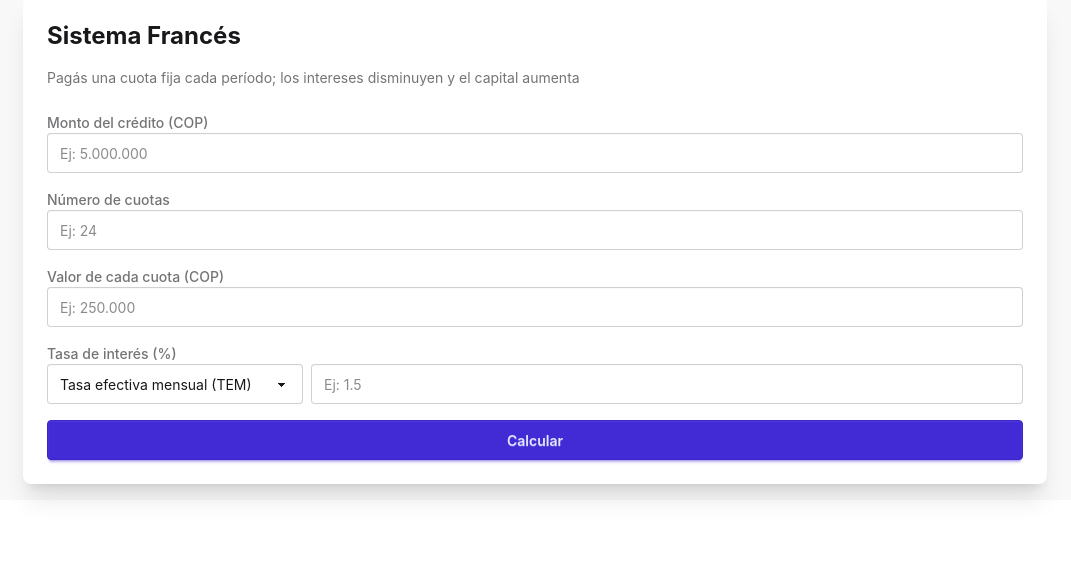
Test: CreditCalculator › validation › shows a Zod error for fractional installments
Type "1200000" into the field with placeholder "Ej: 5.000.000".
click(535, 153); type("1200000")  # box left=47, top=133, right=1023, bottom=173
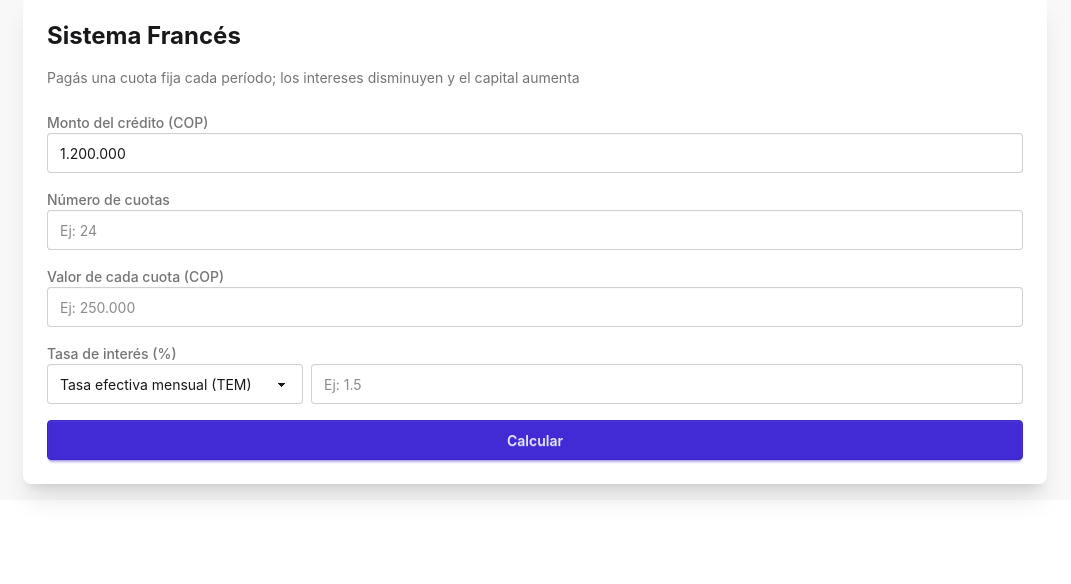
Type "1.5" into the number field with placeholder "Ej: 24".
click(535, 230); type("1.5")  # box left=47, top=210, right=1023, bottom=250
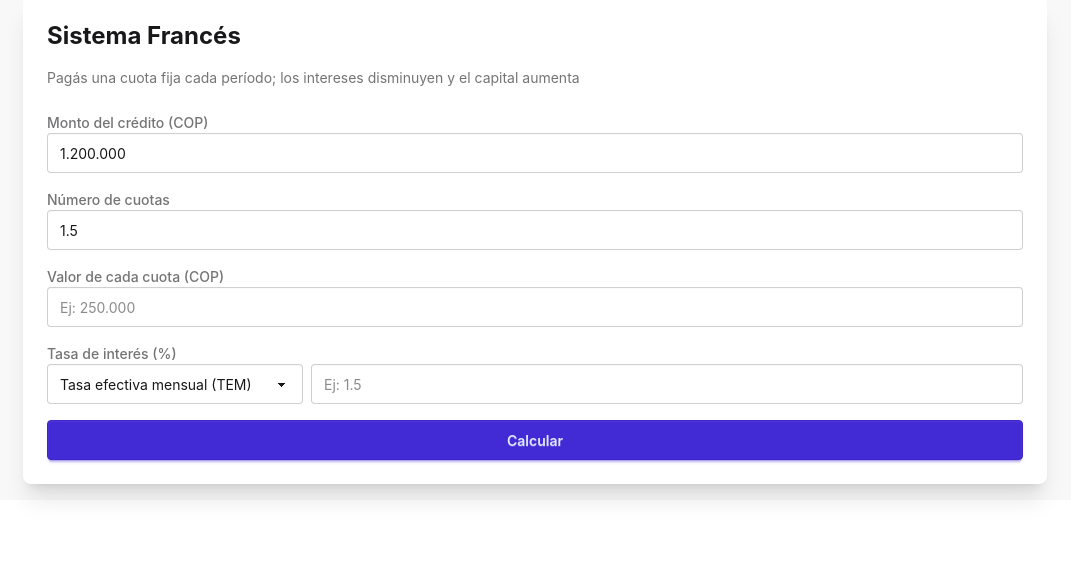
Type "0" into the number field with test id "rate-input".
click(667, 384); type("0")  # box left=311, top=364, right=1023, bottom=404
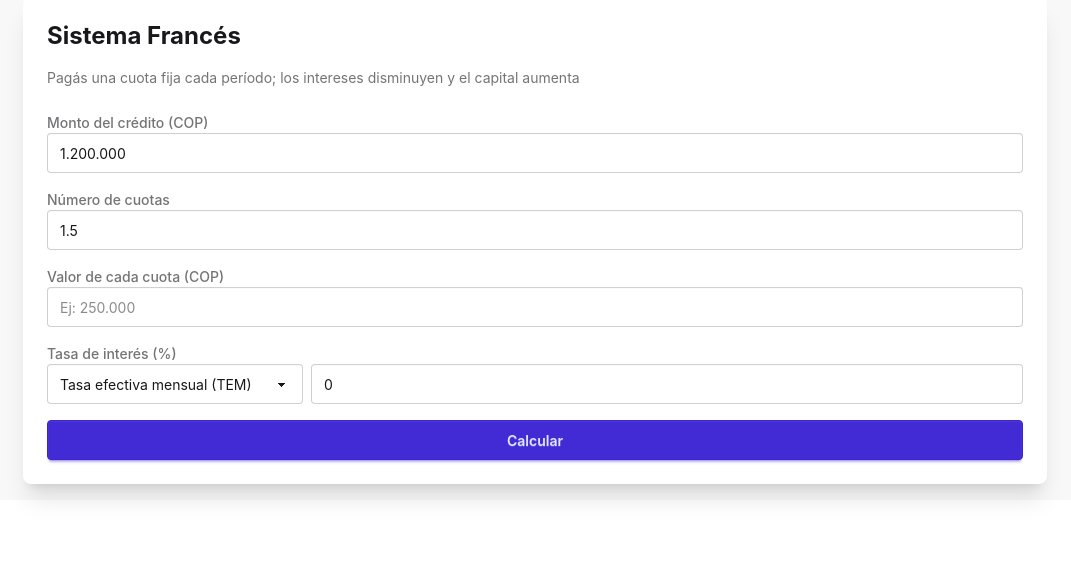
Click the button with test id "calculate-btn".
click(535, 440)  # box left=47, top=420, right=1023, bottom=460
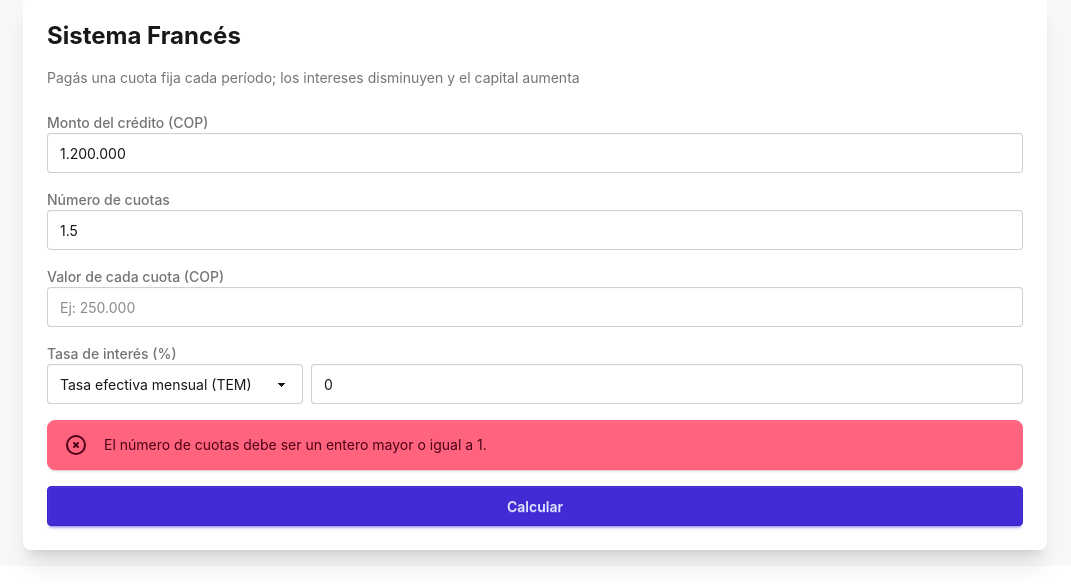
Expected: the text "cuotas" is shown, left=47, top=191, right=170, bottom=208
Expected: the message "El número de cuotas debe ser un entero mayor o igual a 1." is shown, left=47, top=420, right=1023, bottom=470
